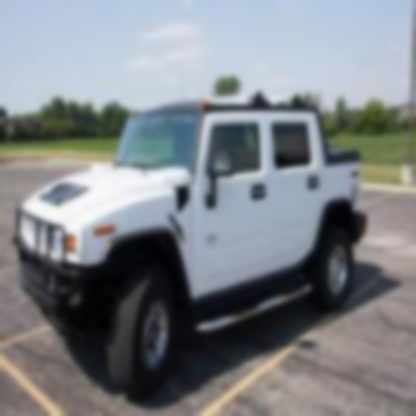Vehicle: (15, 98, 371, 407)
